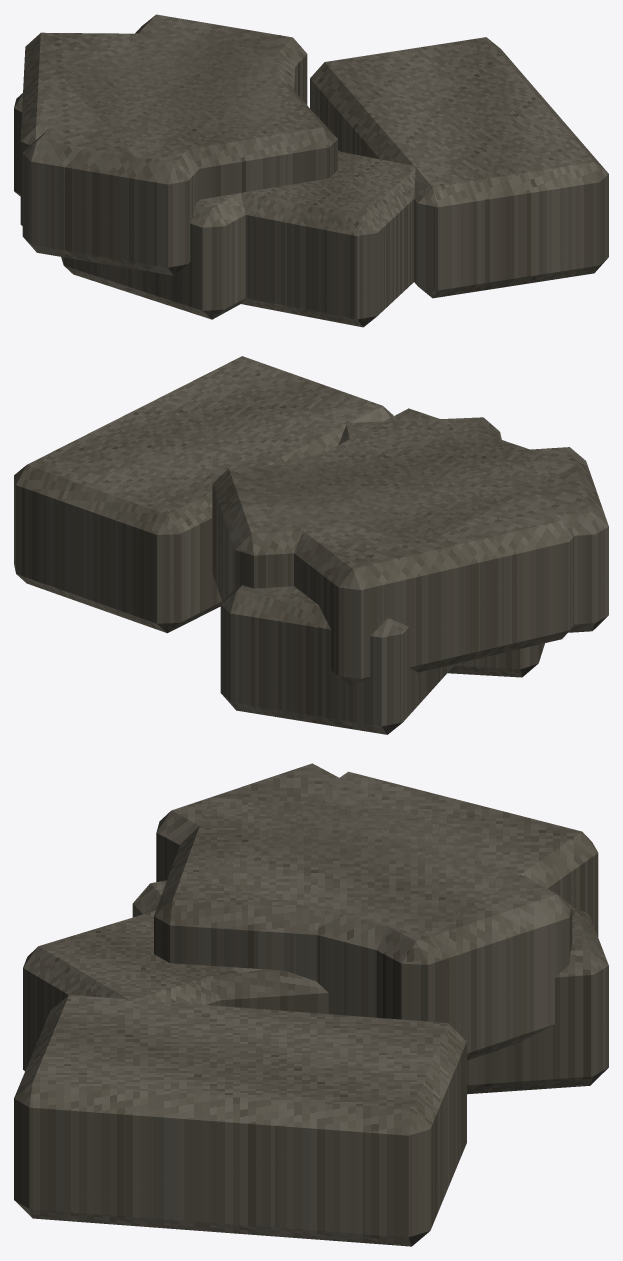
File: env_rocks_11_low_masonry_rubble.glb
3 renders of one model, top to bottom at view 1: azimuth 30°, elevation 25°; view 2: azimuth 150°, elevation 25°; view 3: azimuth 270°, elevation 25°, orthographic. The views are drawn at different scales.
Visible parts, largest first — view 1: solid; view 2: solid; view 3: solid.
Boxes of the visible parts, x1,y1,x2,y2 form: solid: (14,14,608,327); solid: (14,356,608,734); solid: (14,763,608,1246).
Size of the model in its own units: 0.957 by 0.278 by 0.7851.
Materials: 1 (1 with a texture image).
